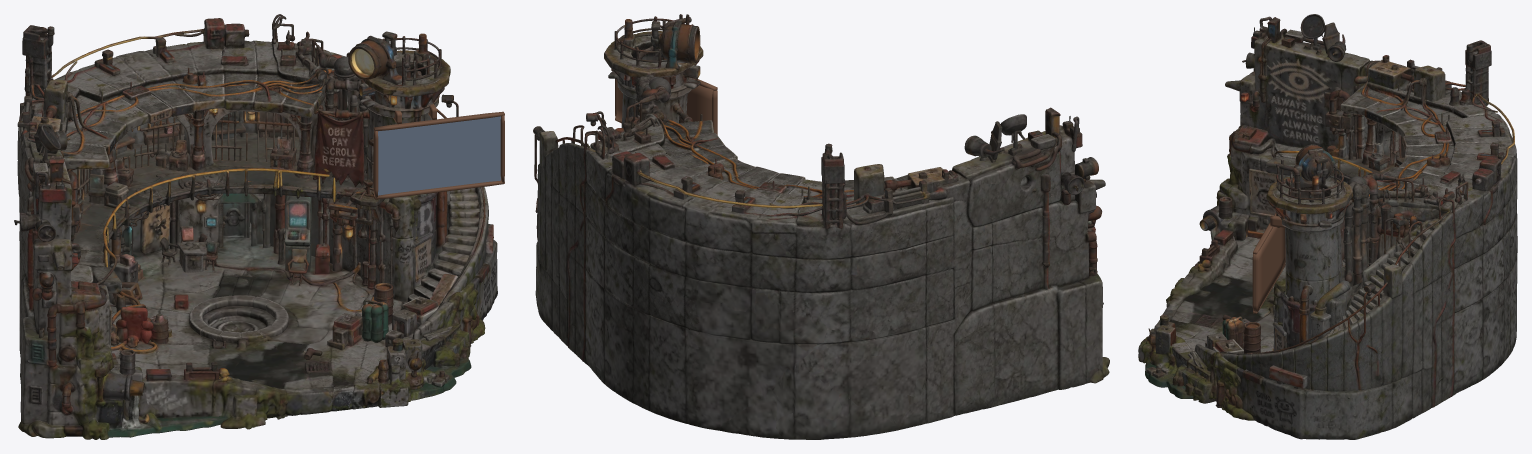
Rendered from kfb-meshy-prison-panopticon.screen-a.v1.glb.
The picture shows the model from 3 angles, left to right: view 1: azimuth 30°, elevation 25°; view 2: azimuth 150°, elevation 25°; view 3: azimuth 270°, elevation 25°; orthographic projection. The views are drawn at different scales.
Visible parts, largest first — view 1: prison_panopticon, kfb_screen_slot, kfb_screen_frame; view 2: prison_panopticon, kfb_screen_frame; view 3: prison_panopticon, kfb_screen_frame.
Boxes of the visible parts, box(x1,y1,x2,y2) form: prison_panopticon: box(14, 14, 497, 439); kfb_screen_slot: box(378, 116, 500, 195); kfb_screen_frame: box(373, 104, 504, 199); prison_panopticon: box(533, 14, 1109, 439); kfb_screen_frame: box(615, 78, 717, 134); prison_panopticon: box(1138, 14, 1517, 439); kfb_screen_frame: box(1252, 213, 1285, 313).
Size of the model in its own units: 1.9 by 1.02 by 1.43.
3 materials, 1 textured.
